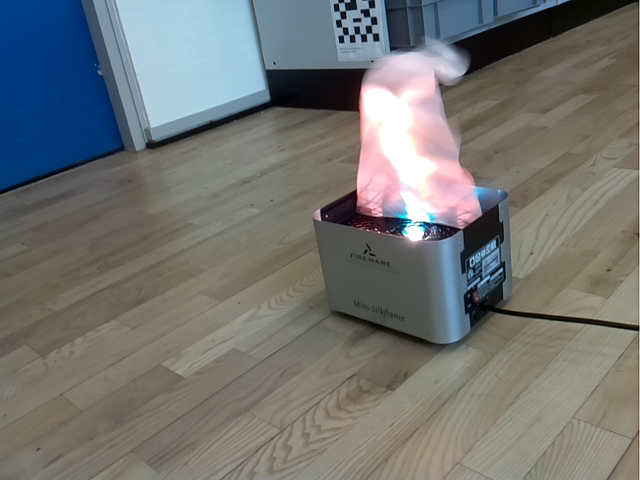fire: (355, 36, 481, 229)
